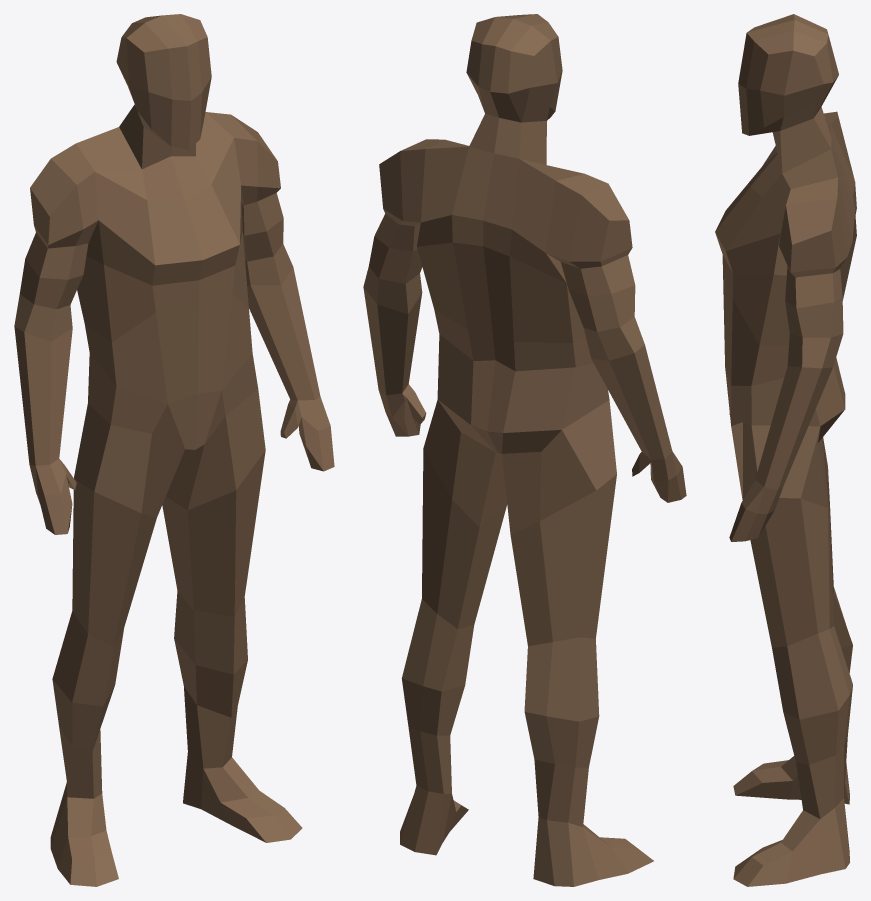
File: man.obj
The picture shows the model from 3 angles, left to right: view 1: azimuth 30°, elevation 25°; view 2: azimuth 150°, elevation 25°; view 3: azimuth 270°, elevation 25°; orthographic projection. The views are drawn at different scales.
Parts seen in each view (by area): view 1: Cube.001_Cube.008; view 2: Cube.001_Cube.008; view 3: Cube.001_Cube.008.
Part boxes in pixels (x1=…): Cube.001_Cube.008: x1=14, y1=14, x2=334, y2=886; Cube.001_Cube.008: x1=363, y1=14, x2=686, y2=886; Cube.001_Cube.008: x1=715, y1=14, x2=856, y2=886.
Size of the model in its own units: 0.8905 by 2.45 by 0.3877.
